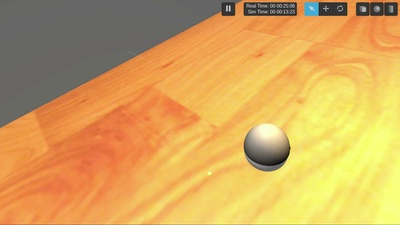mira_robot: (244, 124, 291, 171)
